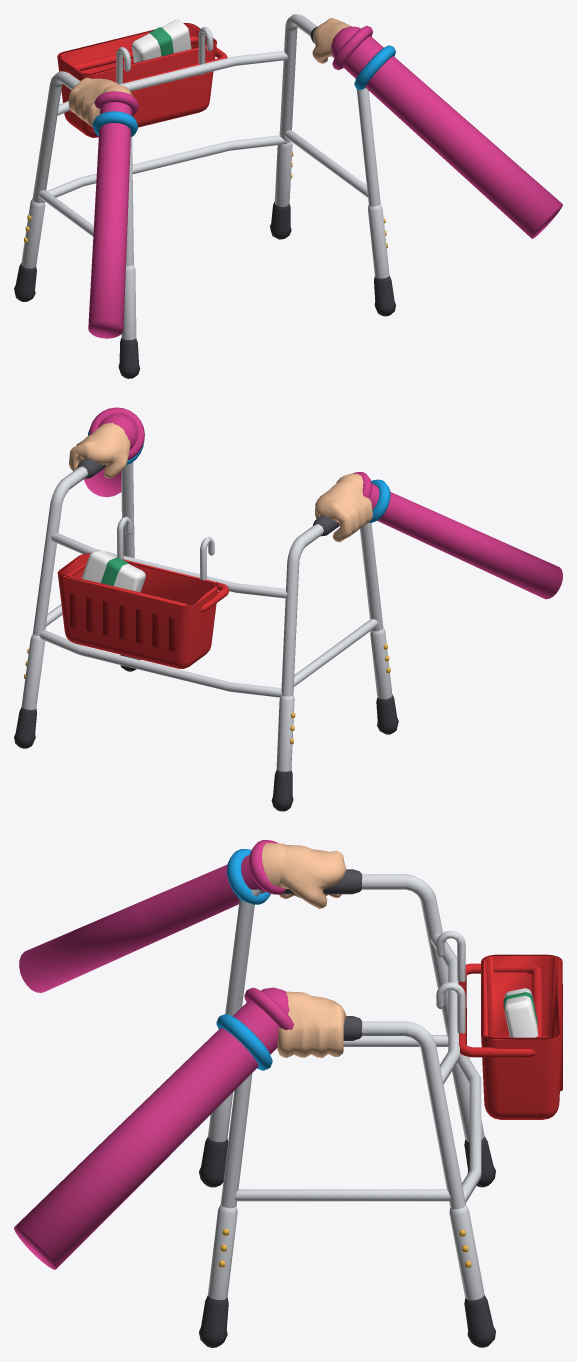
Rendered from ahma.glb.
3 renders of one model, top to bottom at view 1: azimuth 30°, elevation 25°; view 2: azimuth 150°, elevation 25°; view 3: azimuth 270°, elevation 25°, orthographic. The views are drawn at different scales.
Visible parts, largest first — view 1: R; view 2: R; view 3: R.
Part boxes in pixels (bbox=[...]): R: bbox=[14, 14, 562, 378]; R: bbox=[14, 407, 562, 811]; R: bbox=[14, 840, 562, 1347].
Bounding box in the file's own units: 1.13 × 0.6283 × 0.8856.
